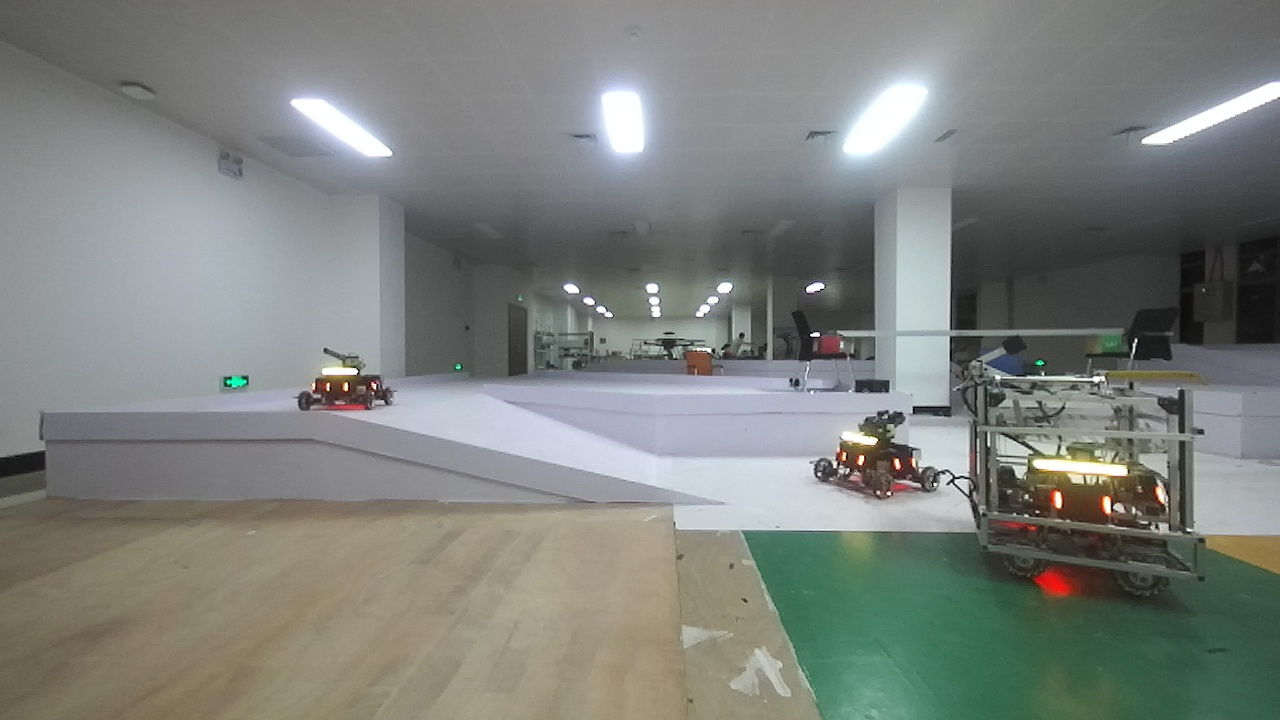car: (958, 365, 1211, 622), (805, 399, 944, 524), (293, 334, 396, 443)
